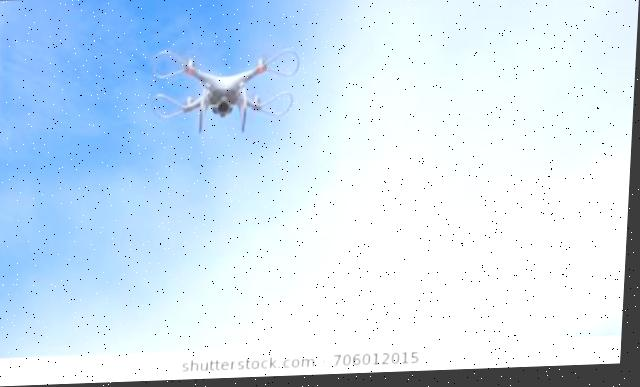drone: (119, 28, 334, 158)
